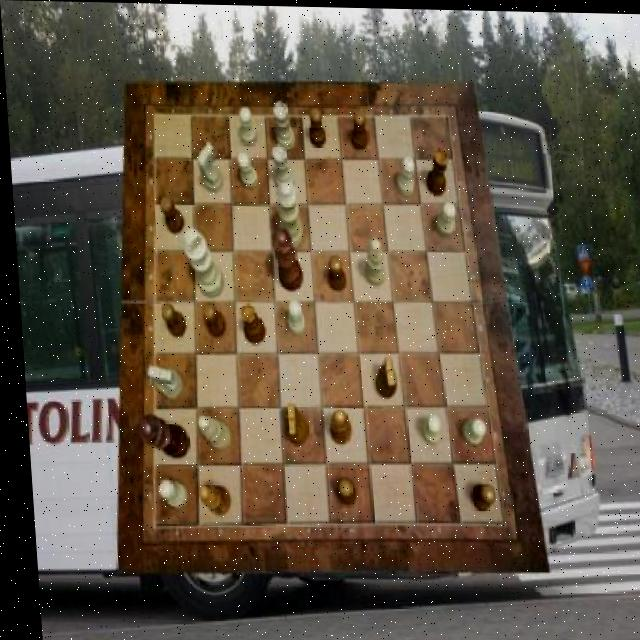bishop: (191, 483, 226, 516), (322, 407, 347, 443)
black-bishop: (133, 414, 185, 458)
black-king: (279, 403, 304, 445), (368, 355, 392, 397)
black-knight: (158, 195, 183, 233), (157, 301, 184, 336), (199, 302, 221, 337), (348, 109, 367, 149), (307, 107, 326, 146), (465, 481, 491, 509), (324, 255, 343, 289), (329, 476, 351, 504)
black-pawn: (267, 226, 300, 290)
black-queen: (423, 148, 448, 195), (236, 304, 263, 344)
black-rook: (191, 414, 226, 449), (360, 239, 383, 285)
white-bishop: (179, 226, 221, 296)
white-king: (195, 140, 222, 192), (144, 365, 179, 400)
white-knight: (394, 154, 415, 195), (153, 479, 183, 507), (235, 152, 257, 188), (433, 200, 455, 234), (238, 107, 257, 146), (283, 299, 303, 335), (457, 417, 482, 443), (417, 411, 437, 443)
white-pawn: (272, 180, 300, 247)
white-queen: (269, 145, 292, 193), (273, 100, 295, 150)
